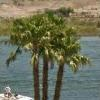Tree: (9, 8, 78, 100)
